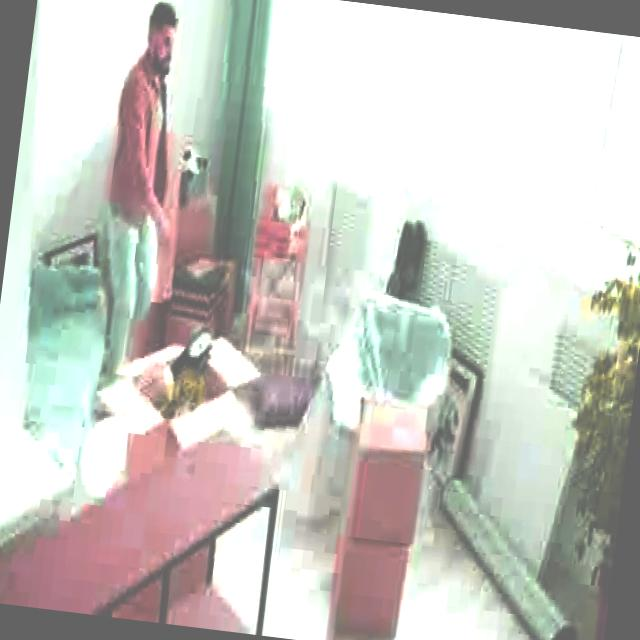Box: (345, 390, 434, 538), (323, 539, 405, 640)
